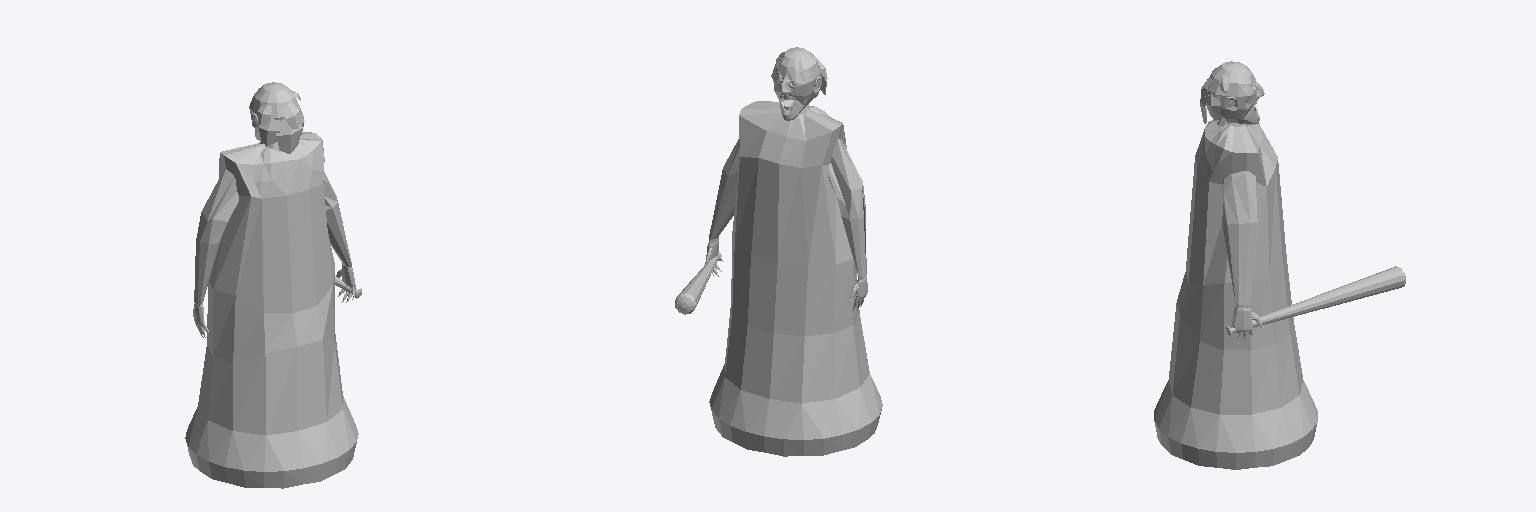
File: granny.obj
3 views of the same model, side by side, from view 1: azimuth 30°, elevation 25°; view 2: azimuth 150°, elevation 25°; view 3: azimuth 270°, elevation 25° (orthographic).
Visible parts, largest first — view 1: Object_5, Object_2; view 2: Object_5, Object_7; view 3: Object_5, Object_7, Object_4, Object_2.
Boxes of the visible parts, x1=… form: Object_5: x1=185, y1=82, x2=358, y2=488; Object_2: x1=258, y1=90, x2=304, y2=153; Object_5: x1=705, y1=47, x2=882, y2=456; Object_7: x1=675, y1=274, x2=706, y2=314; Object_5: x1=1154, y1=61, x2=1317, y2=469; Object_7: x1=1317, y1=266, x2=1405, y2=308; Object_4: x1=1226, y1=296, x2=1321, y2=336; Object_2: x1=1200, y1=77, x2=1228, y2=123.
Size of the model in its own units: 0.7653 by 1.7 by 1.02.